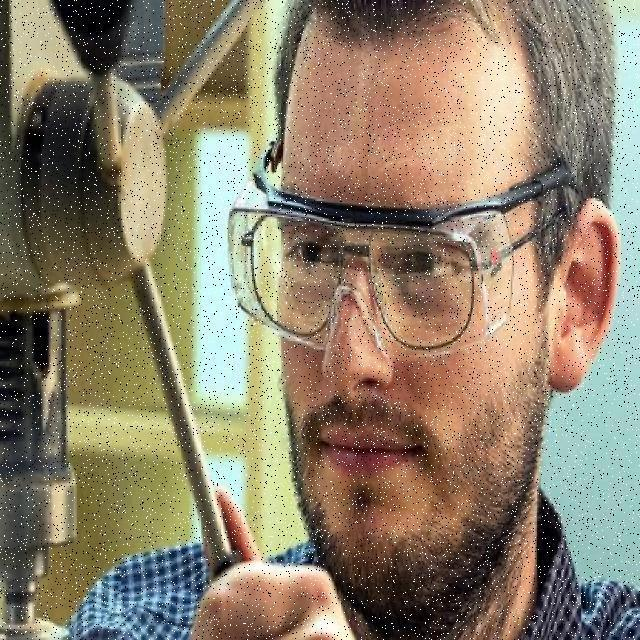Goggles: (220, 126, 578, 357)
